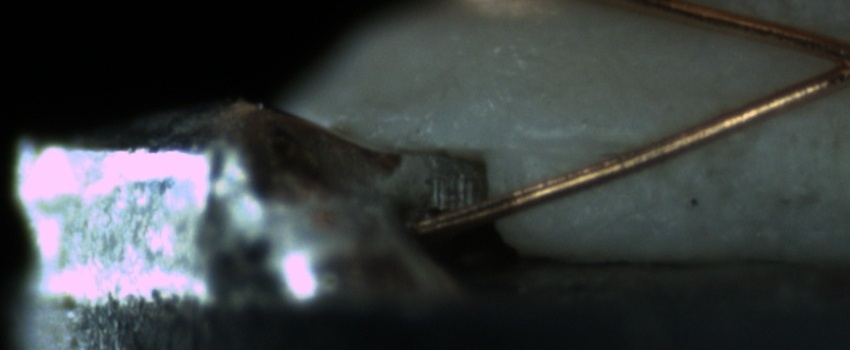CL: (801, 28, 849, 93)
DL: (512, 112, 646, 174)
